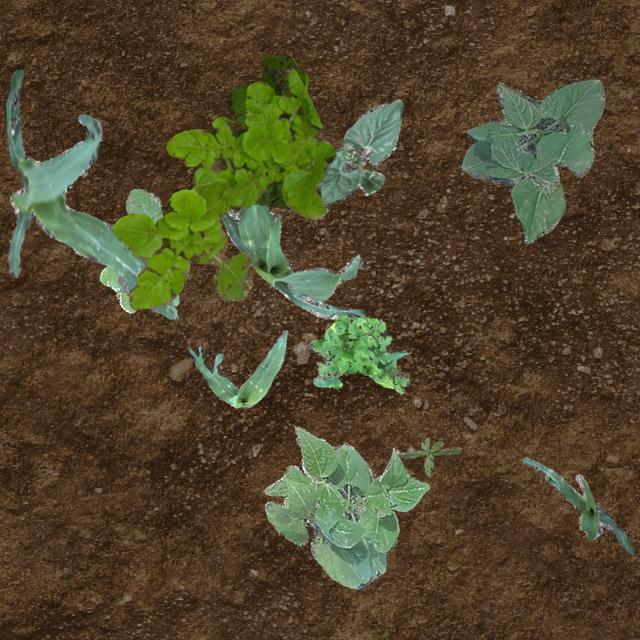crop: (5, 68, 176, 318), (262, 426, 428, 588), (458, 79, 604, 242), (220, 202, 364, 318), (520, 456, 634, 554), (318, 98, 402, 205), (188, 330, 286, 408)
weed: (112, 66, 336, 308), (225, 54, 308, 208), (99, 188, 178, 312), (308, 314, 410, 392), (396, 436, 461, 476)
